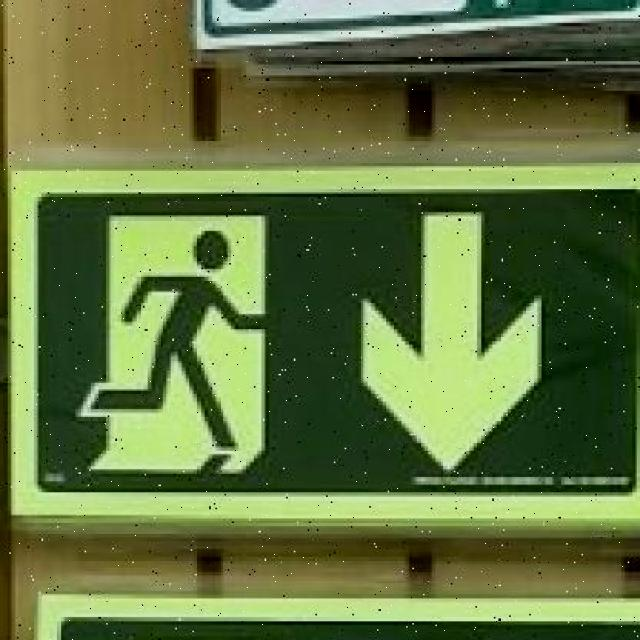emergency_exit: (8, 164, 639, 530)
